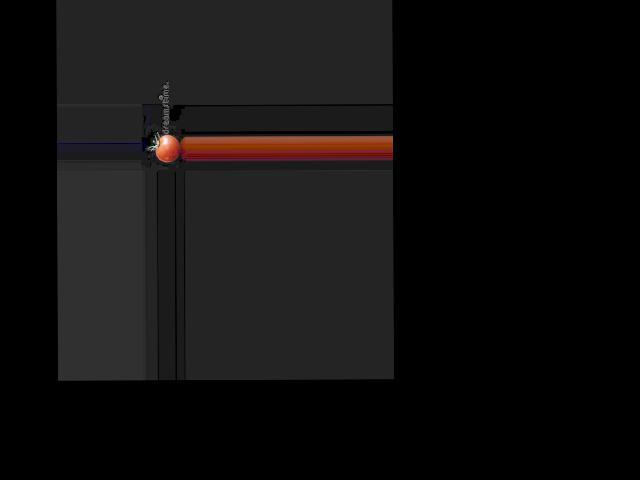tomato: (155, 134, 179, 161)
